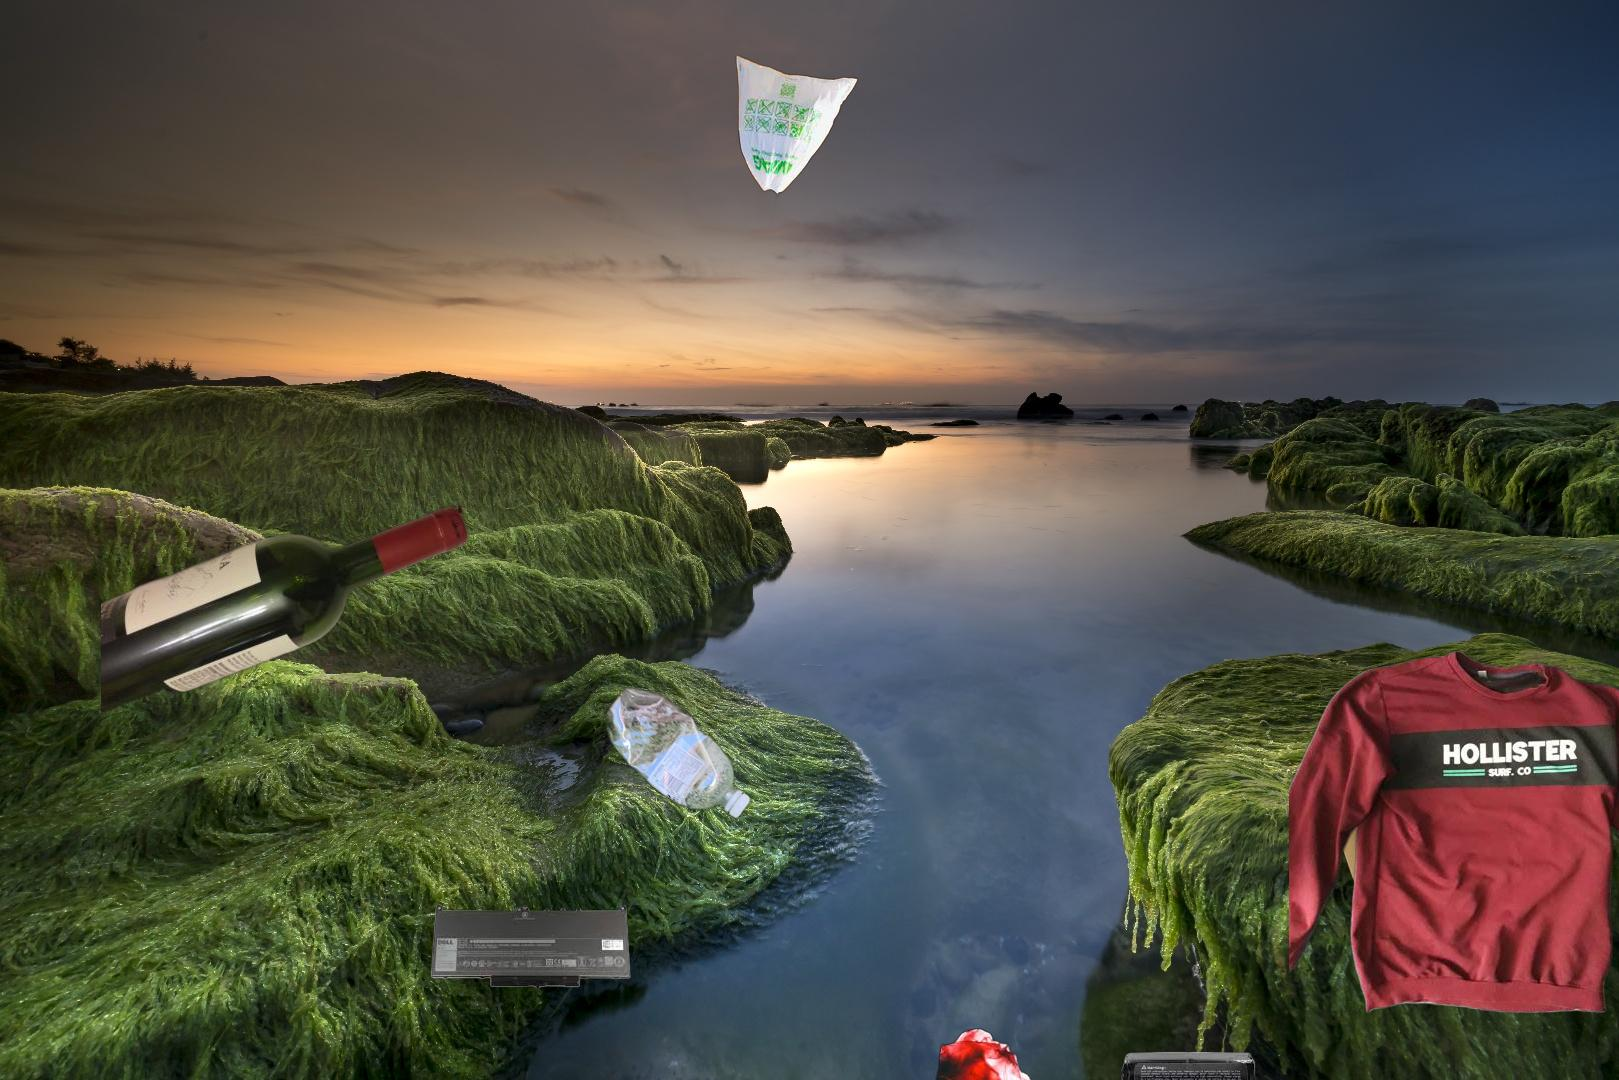battery: (428, 901, 634, 991), (1063, 1049, 1258, 1080)
clothes: (1289, 646, 1619, 1018)
glass: (101, 501, 473, 717)
paper-bag: (1327, 691, 1563, 918)
plastic-bag: (733, 54, 861, 221), (838, 1026, 1037, 1080)
plastic-bottles: (601, 681, 755, 825)
